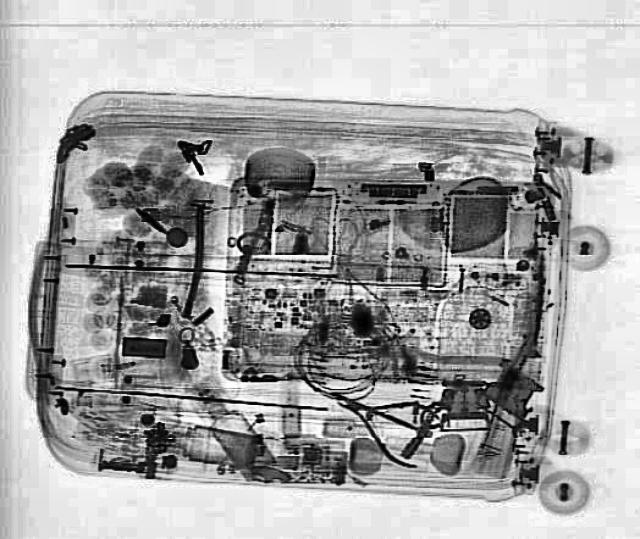Pliers: (316, 373, 454, 471)
